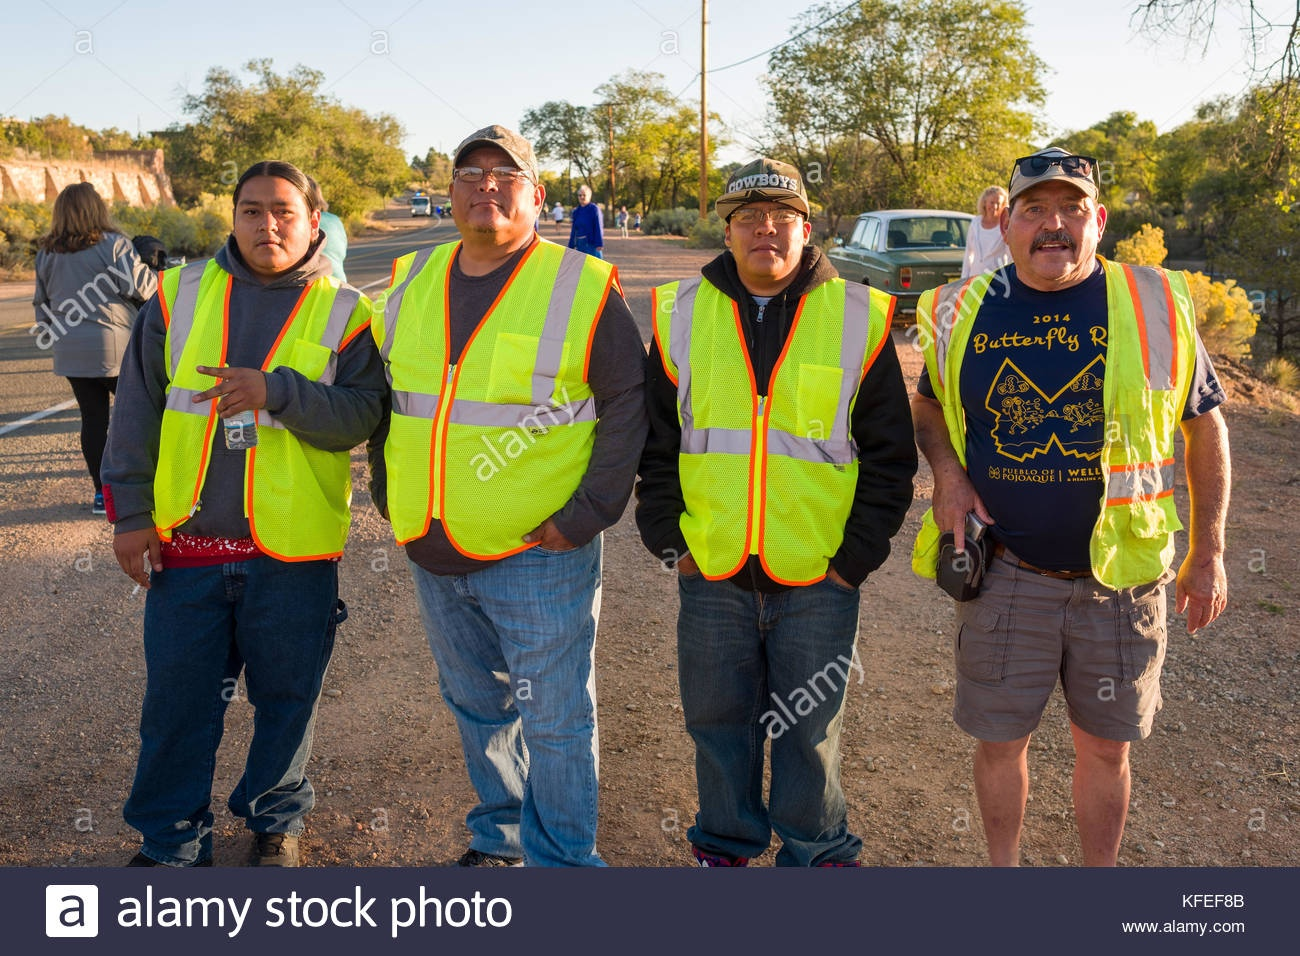person with partial safety: (918, 142, 1212, 864), (360, 125, 634, 855), (109, 155, 350, 858), (650, 159, 878, 857)
person without safety: (42, 182, 150, 519), (961, 183, 1015, 278), (567, 179, 608, 262)
safety vest: (918, 261, 1195, 579), (650, 268, 890, 593), (380, 245, 617, 564), (150, 245, 360, 564)
